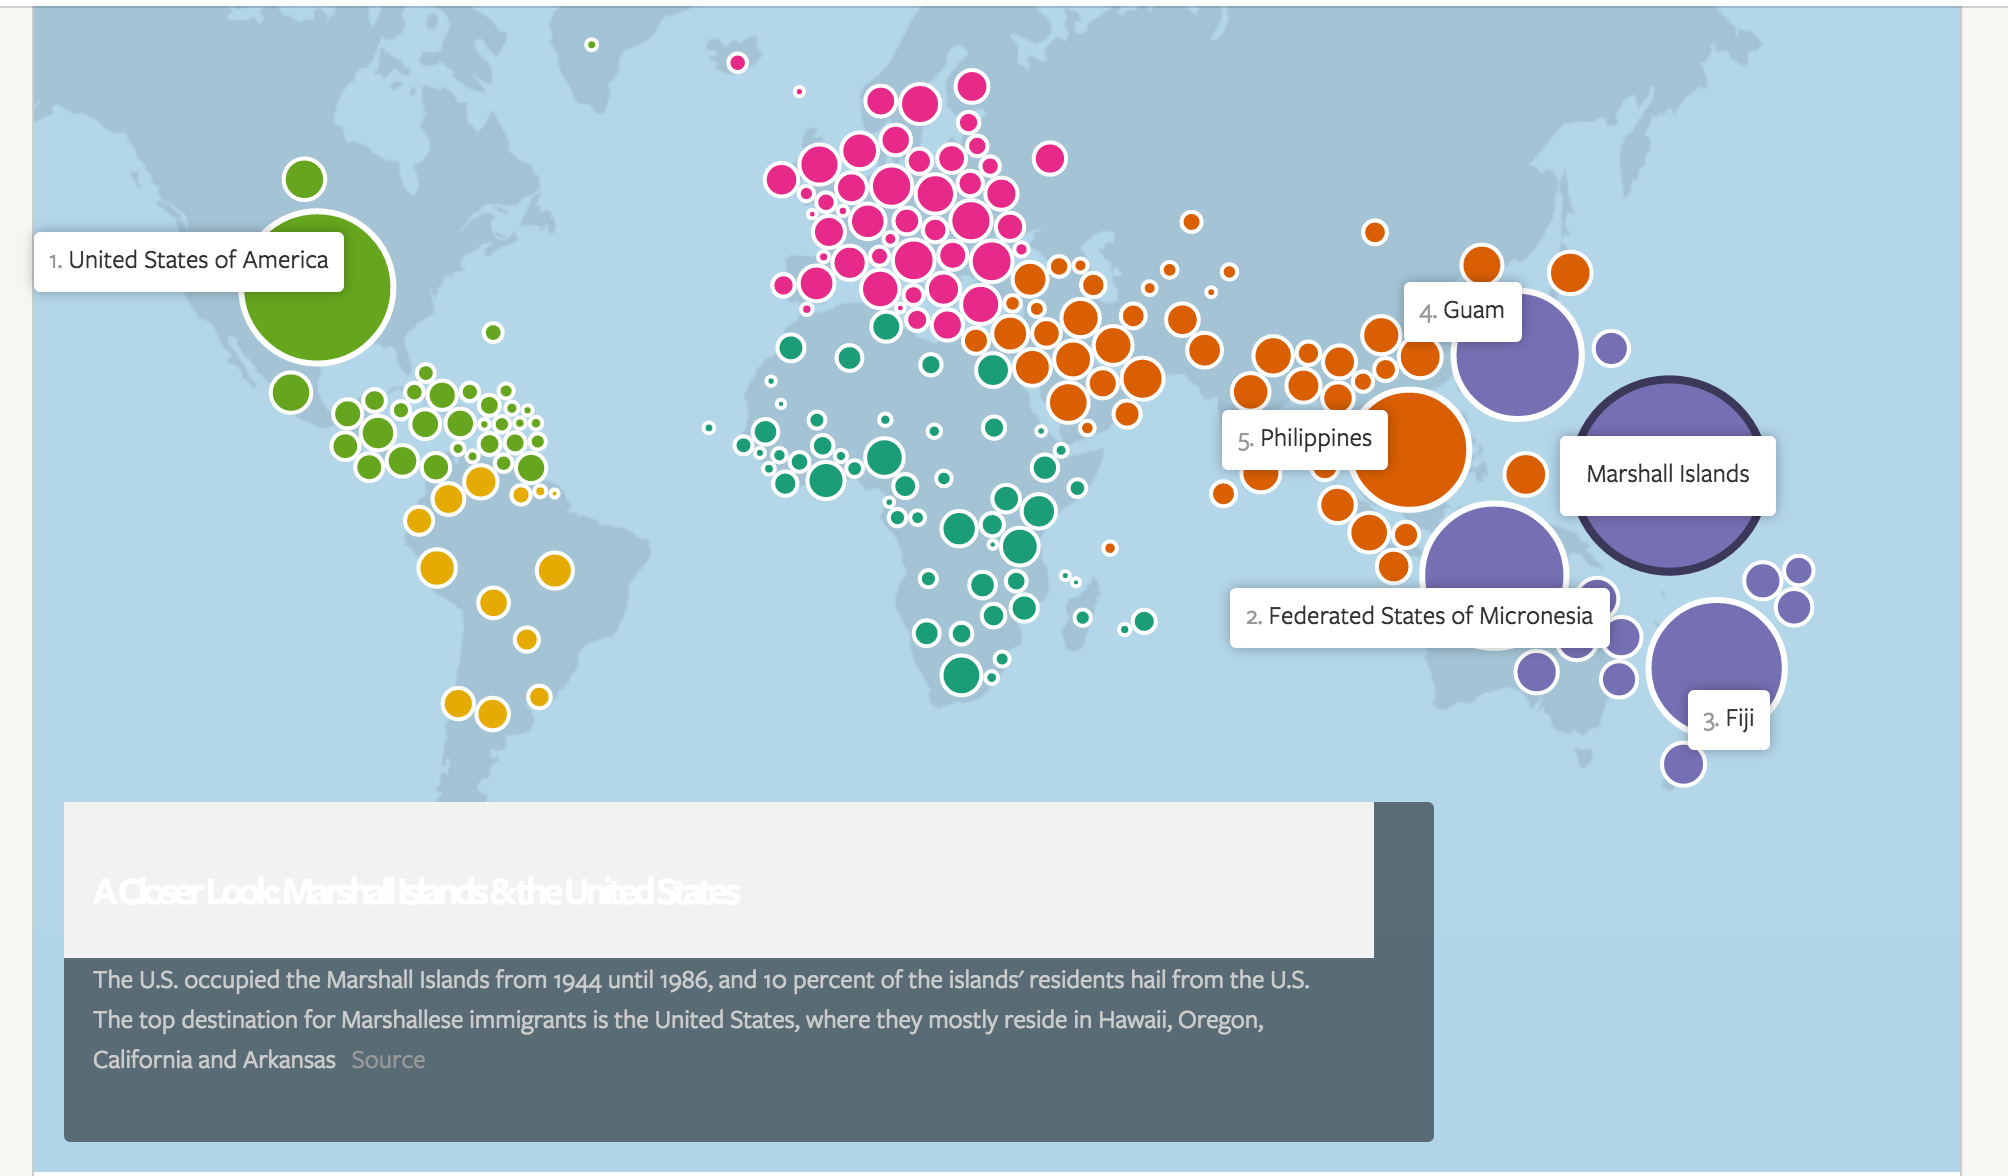

What the dashboard file says about the page in this screenshot:
{"tool":"tableau","page":{"name":"Dashboard 1","canvas":[1000,800],"ordinal":0},"visuals":[{"type":"worksheet","title":"Sheet 1","mark":"Circle","rows":["MPG"],"cols":["Weight"],"box":[0,0,840,800]},{"type":"legend","title":"Sheet 1","param":"[textscan.14h8h6g1ua10101g5851s1sy8clt].[none:Manufacturer:nk]","box":[840,0,160,134]},{"type":"legend","title":"Sheet 1","param":"[textscan.14h8h6g1ua10101g5851s1sy8clt].[none:Weight:qk]","box":[840,134,160,110]}]}

Visuals, with their boxes on the page's 1000x800 design canvas (x1, y1, x2, y2). These are canvas units, not pixel positions in the 2008x1176 screenshot, which may show the page scaled, cropped or inside an application window:
"Sheet 1" worksheet (Circle marks): <box>0,0,840,800</box>
"Sheet 1" legend: <box>840,0,1000,134</box>
"Sheet 1" legend: <box>840,134,1000,244</box>
